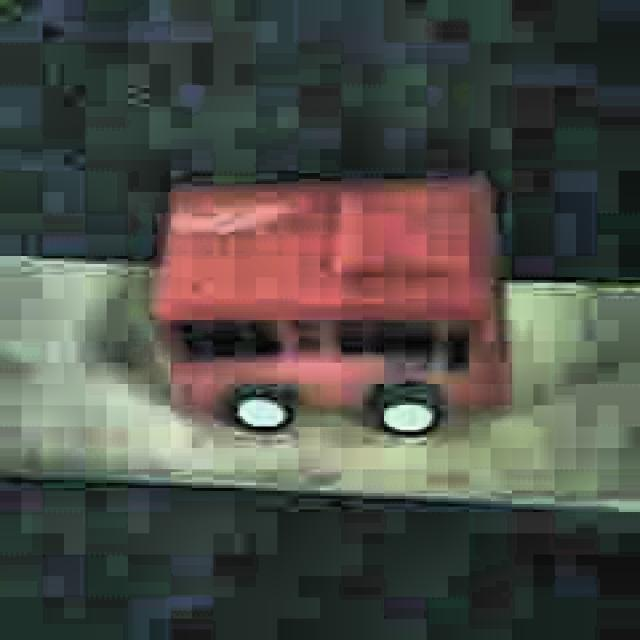bus: (146, 175, 513, 438)
